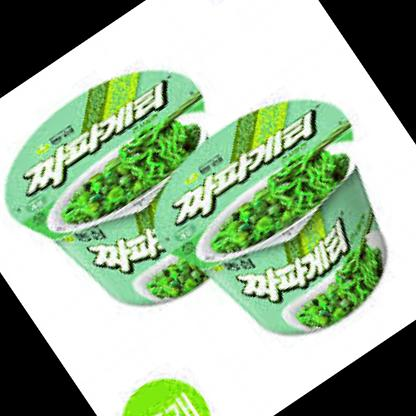Ramen: (0, 33, 291, 349), (129, 67, 416, 378)
